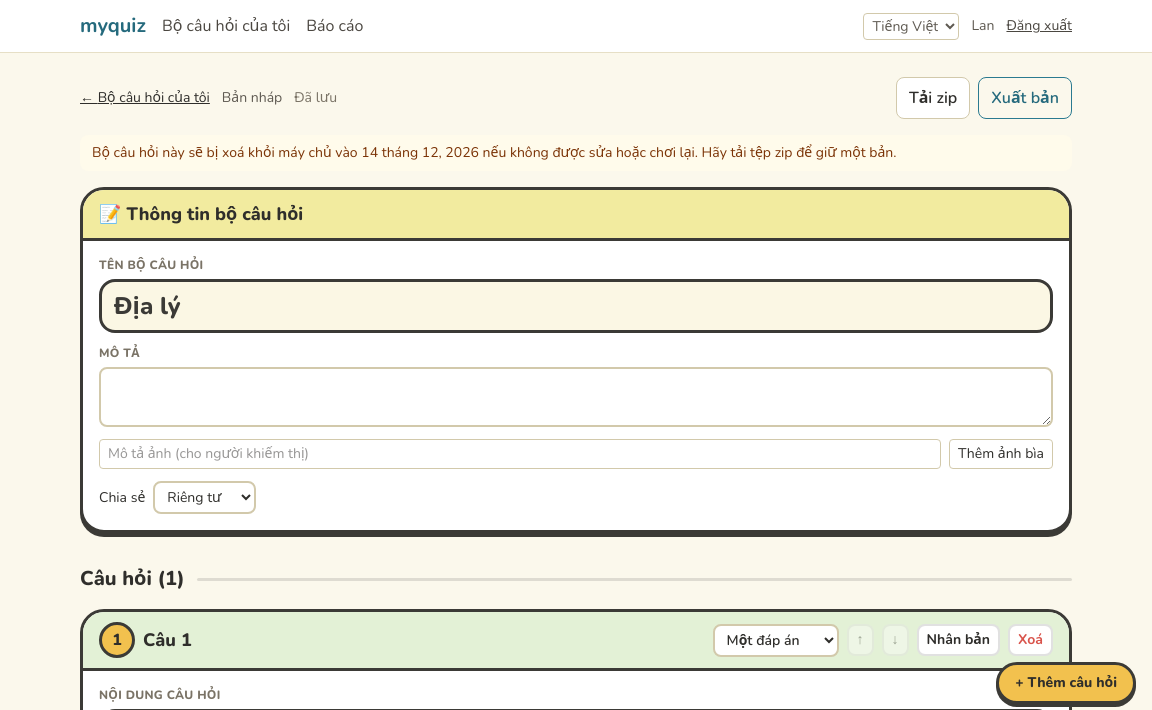
Test: a save from another tab stops autosave and offers a reload
The width and height of the screenshot is (1152, 710).
Replace the text in the field labelled "Tên bộ câu hỏi" with "X" at (576, 306), box [99, 279, 1053, 333]
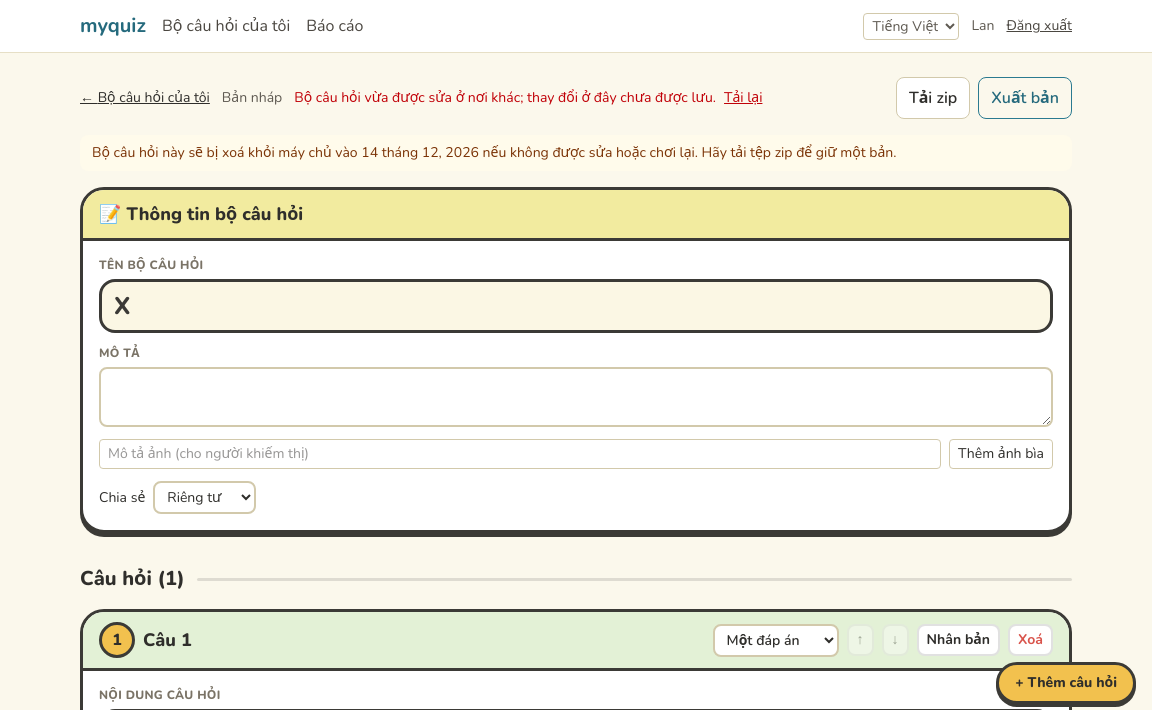
Result: the button "Tải lại" is shown at [724, 88, 762, 108]
